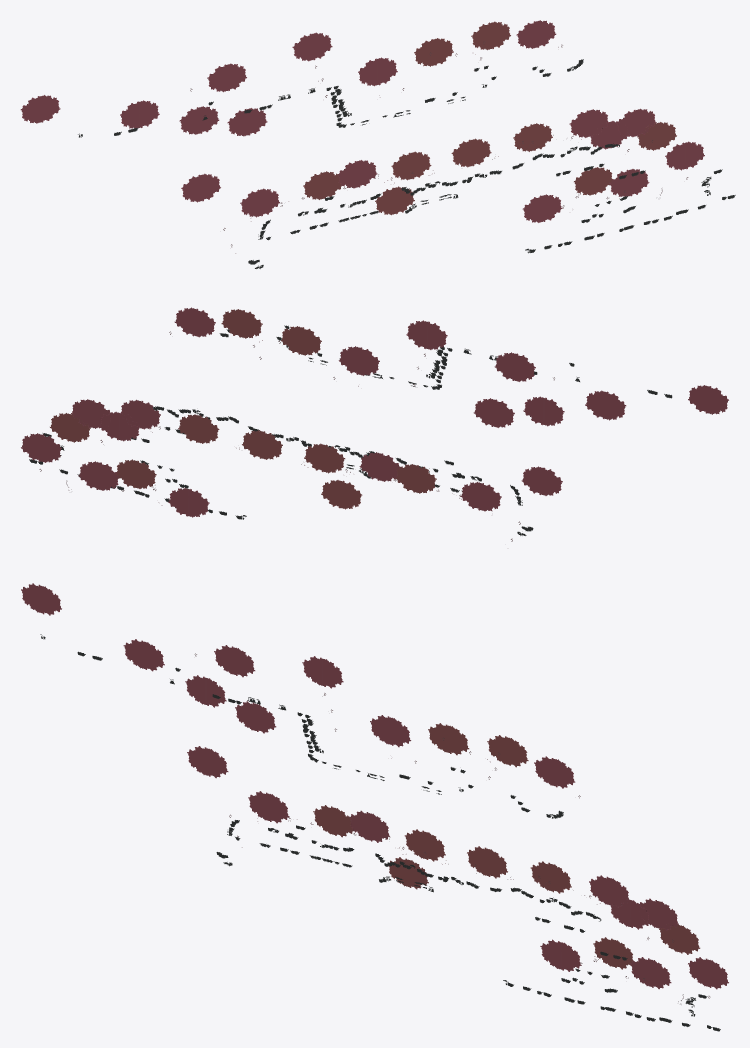
The model's file is nightmare01_bg.glb.
The picture shows the model from 3 angles, top to bottom: view 1: azimuth 30°, elevation 25°; view 2: azimuth 150°, elevation 25°; view 3: azimuth 330°, elevation 25°; orthographic projection. The views are drawn at different scales.
Visible parts, largest first — view 1: nightmare01_bg; view 2: nightmare01_bg; view 3: nightmare01_bg.
Part boxes in pixels (box(x1,y1,x2,y2)): nightmare01_bg: box(20, 20, 735, 268); nightmare01_bg: box(21, 307, 728, 541); nightmare01_bg: box(21, 583, 728, 1031).
Bounding box in the file's own units: 6262 × 2224 × 297.
7 materials, 7 textured.
